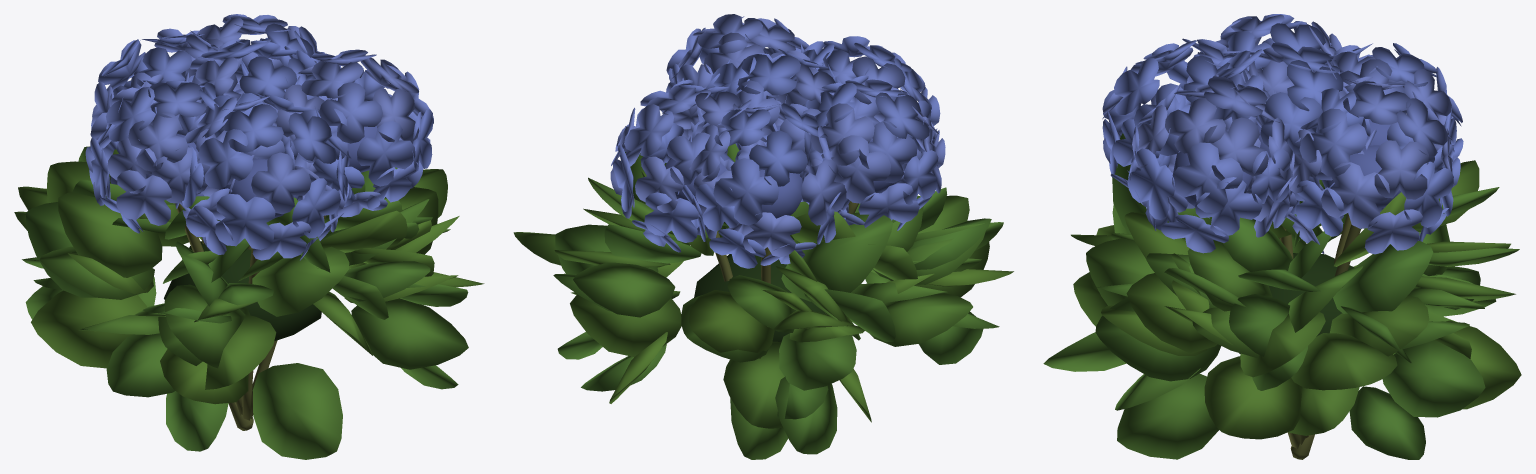
File: potfill_hydrangea_blue.glb
3 renders of one model, left to right at view 1: azimuth 30°, elevation 25°; view 2: azimuth 150°, elevation 25°; view 3: azimuth 270°, elevation 25°, orthographic. The views are drawn at different scales.
Visible parts, largest first — view 1: Sammel Pflanze, Sammel Blatt, Sammel Putz; view 2: Sammel Pflanze, Sammel Blatt, Sammel Putz; view 3: Sammel Pflanze, Sammel Blatt, Sammel Putz.
Part boxes in pixels (<box>): Sammel Pflanze: <box>14,14,484,459</box>; Sammel Blatt: <box>164,241,321,341</box>; Sammel Putz: <box>174,203,326,430</box>; Sammel Pflanze: <box>513,14,1013,459</box>; Sammel Blatt: <box>694,254,826,342</box>; Sammel Putz: <box>710,201,858,283</box>; Sammel Pflanze: <box>1043,14,1521,459</box>; Sammel Blatt: <box>1239,253,1354,353</box>; Sammel Putz: <box>1278,213,1360,459</box>.
Bounding box in the file's own units: 0.5355 × 0.4704 × 0.5007.
